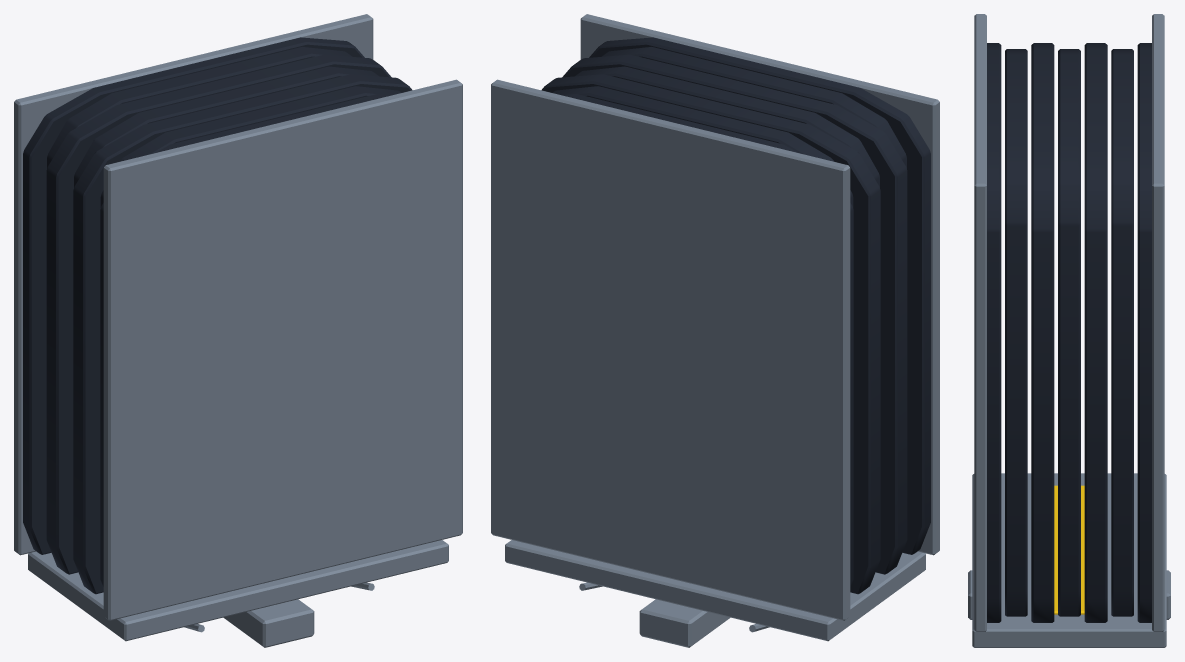
The model's file is fuelle_vagon.glb.
3 renders of one model, left to right at view 1: azimuth 30°, elevation 25°; view 2: azimuth 150°, elevation 25°; view 3: azimuth 270°, elevation 25°, orthographic.
Parts seen in each view (by area): view 1: Fuelle_Vagon; view 2: Fuelle_Vagon; view 3: Fuelle_Vagon.
Boxes of the visible parts, x1=… form: Fuelle_Vagon: x1=14, y1=14, x2=462, y2=647; Fuelle_Vagon: x1=491, y1=14, x2=939, y2=647; Fuelle_Vagon: x1=968, y1=14, x2=1170, y2=647.
Bounding box in the file's own units: 1.92 × 2.66 × 0.96.
